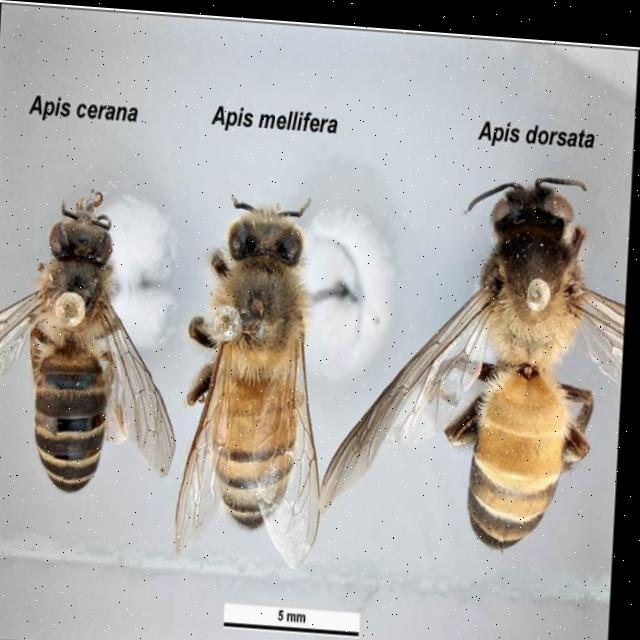Apis-mellifera-scutellata: (173, 157, 377, 588)
